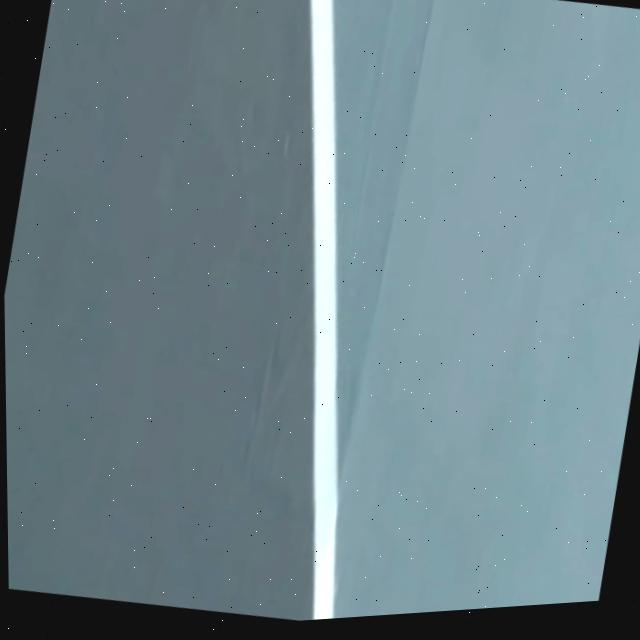left: (310, 0, 339, 620)
